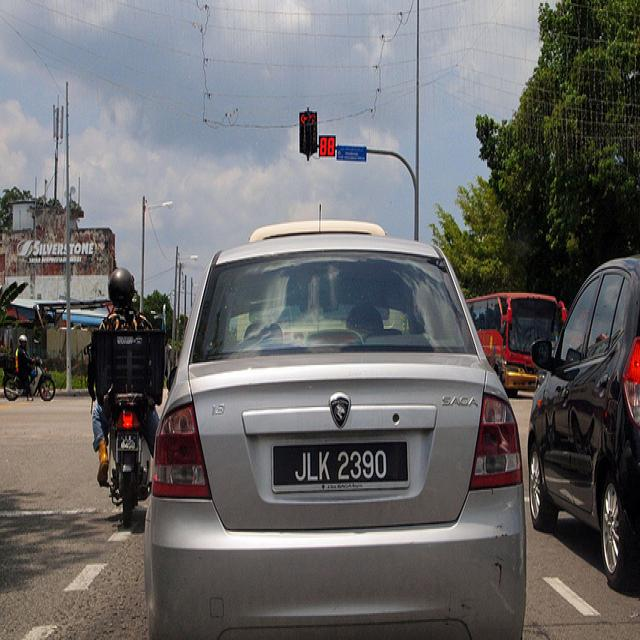motor: (105, 385, 154, 532), (3, 356, 55, 402)
